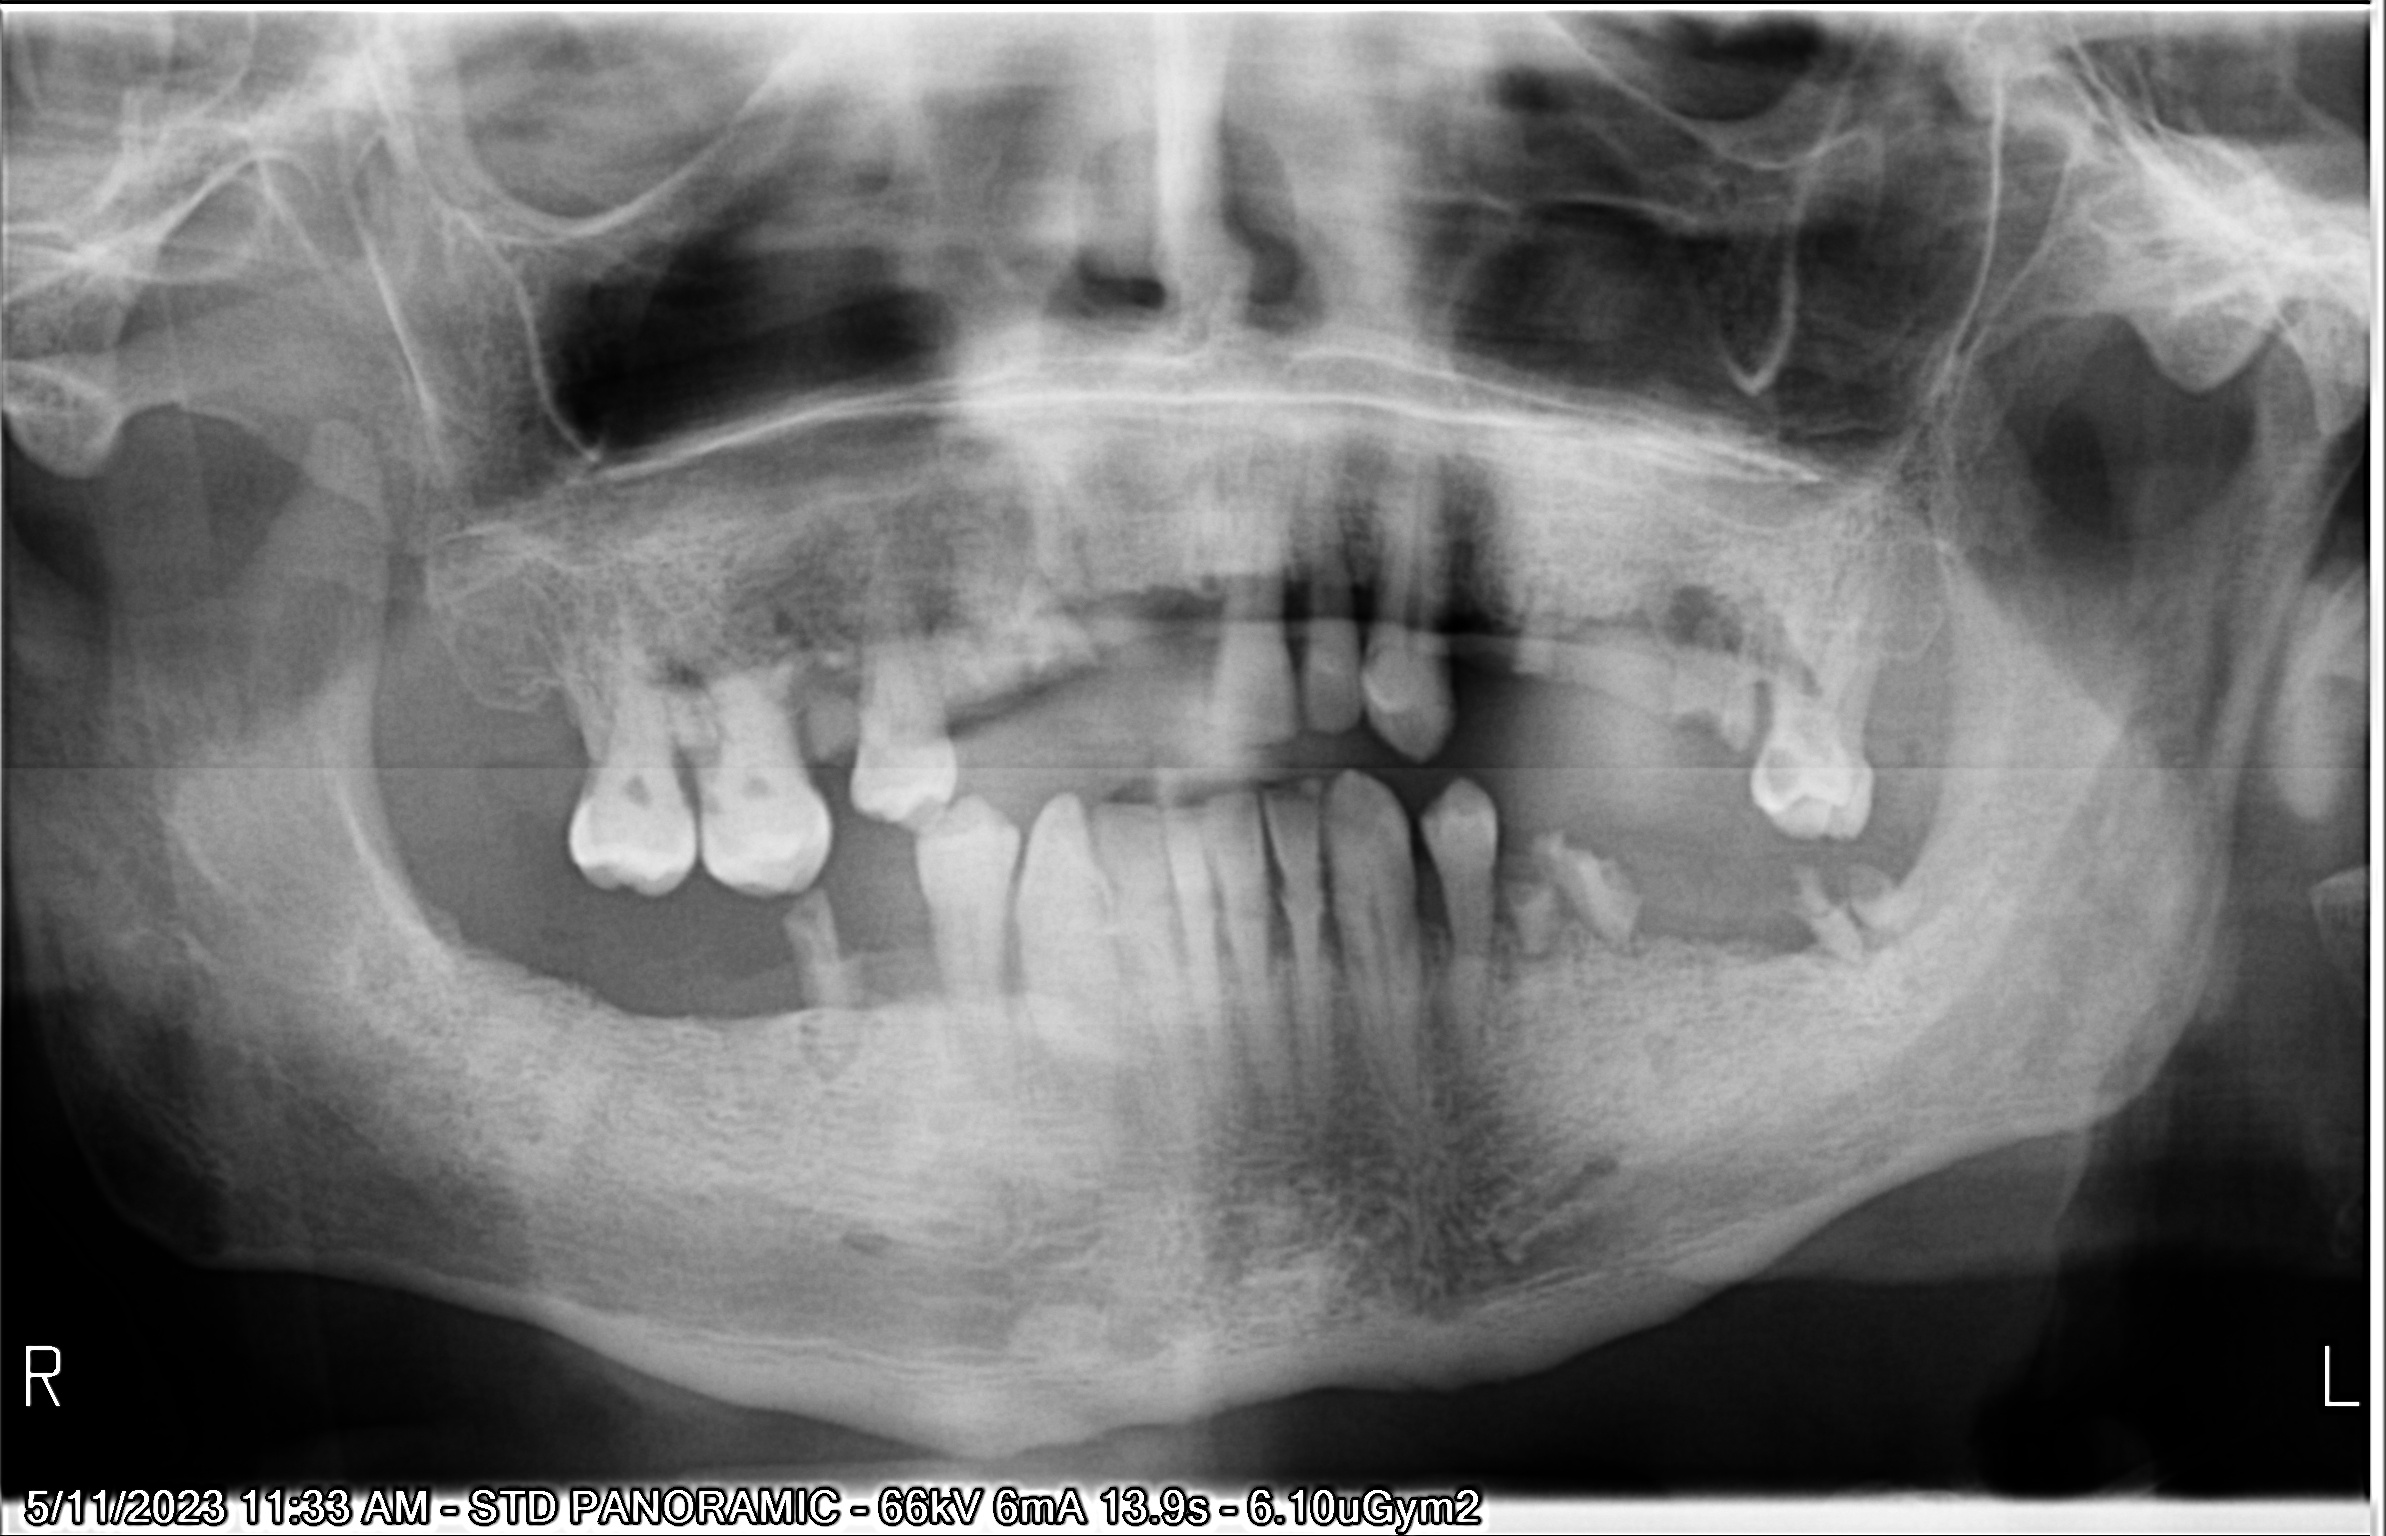API: (1743, 557, 1823, 663), (1678, 578, 1763, 677), (1527, 553, 1605, 633)
BON: (1257, 854, 1299, 958), (1087, 905, 1134, 981), (1410, 856, 1445, 957), (1151, 878, 1177, 971), (1214, 865, 1235, 964), (1002, 878, 1017, 1004), (676, 762, 706, 825), (1323, 868, 1343, 958), (1360, 578, 1376, 673), (1285, 576, 1297, 668)
CAR: (1756, 741, 1807, 798)
FUR: (1776, 630, 1836, 705)
ROT: (781, 894, 866, 1089), (1553, 804, 1636, 964), (1511, 581, 1596, 711), (1016, 565, 1087, 684), (1680, 644, 1750, 764), (1788, 870, 1857, 983), (936, 630, 1003, 745), (802, 675, 868, 791), (1847, 851, 1915, 960), (1499, 859, 1553, 967)
